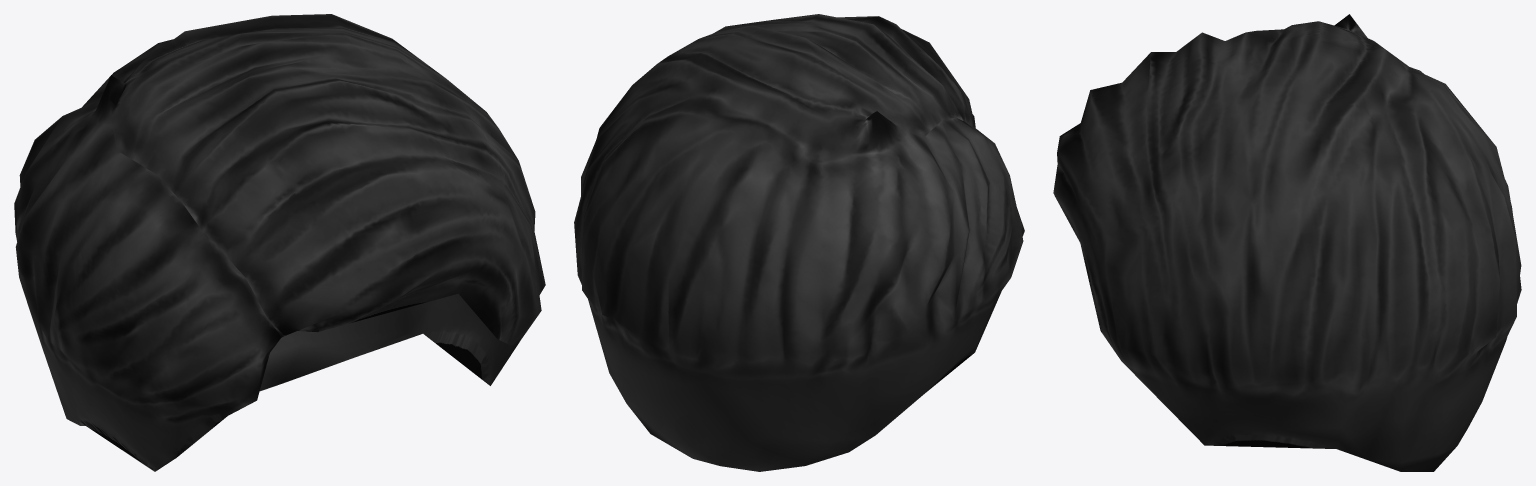
File: AF_M_hair_14.fbx
The picture shows the model from 3 angles, left to right: view 1: azimuth 30°, elevation 25°; view 2: azimuth 150°, elevation 25°; view 3: azimuth 270°, elevation 25°; orthographic projection. The views are drawn at different scales.
Visible parts, largest first — view 1: AF_M_hair_14; view 2: AF_M_hair_14; view 3: AF_M_hair_14.
Boxes of the visible parts, <box> form: AF_M_hair_14: <box>14,14,545,471</box>; AF_M_hair_14: <box>574,14,1024,471</box>; AF_M_hair_14: <box>1053,14,1521,471</box>.
Bounding box in the file's own units: 760 × 708 × 753.
